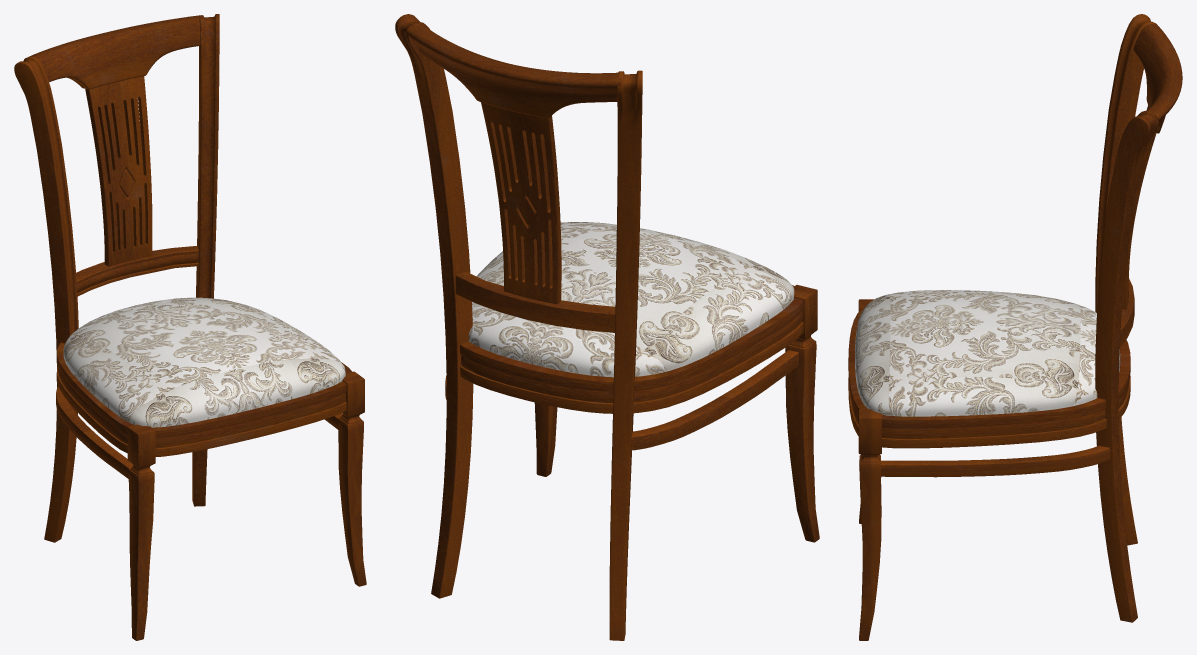
File: chair2.FBX
The picture shows the model from 3 angles, left to right: view 1: azimuth 30°, elevation 25°; view 2: azimuth 150°, elevation 25°; view 3: azimuth 270°, elevation 25°; orthographic projection. The views are drawn at different scales.
Parts seen in each view (by area): view 1: chair; view 2: chair; view 3: chair.
Boxes of the visible parts, x1=… form: chair: x1=14, y1=14, x2=366, y2=640; chair: x1=395, y1=14, x2=819, y2=640; chair: x1=848, y1=14, x2=1182, y2=640.
Bounding box in the file's own units: 48.81 × 96.8 × 56.9.
Materials: 2 (2 with a texture image).
